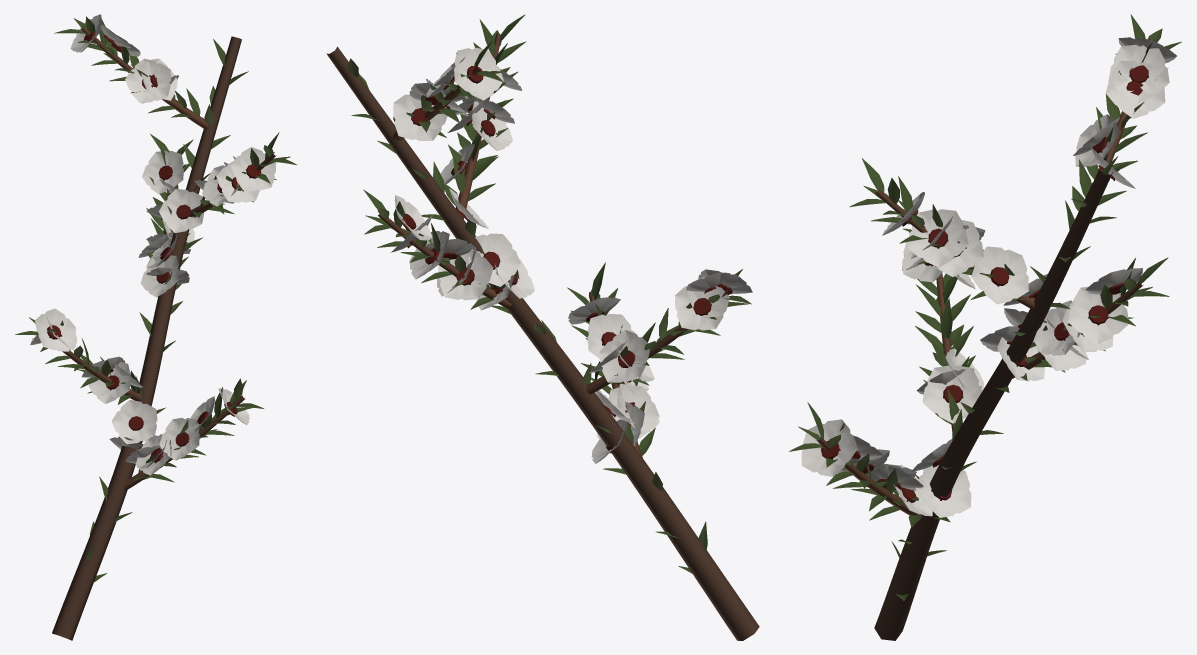
Rendered from manuka-hero.glb.
3 views of the same model, side by side, from view 1: azimuth 30°, elevation 25°; view 2: azimuth 150°, elevation 25°; view 3: azimuth 270°, elevation 25° (orthographic). The views are drawn at different scales.
Visible parts, largest first — view 1: flowers, stem, leaves; view 2: flowers, stem, leaves; view 3: flowers, stem, leaves.
Boxes of the visible parts, x1,y1,x2,y2 form: flowers: [30, 14, 276, 475]; stem: [52, 26, 276, 640]; leaves: [15, 16, 296, 582]; flowers: [390, 47, 752, 463]; stem: [326, 34, 759, 640]; leaves: [347, 14, 751, 573]; flowers: [801, 37, 1176, 517]; stem: [816, 38, 1154, 640]; leaves: [789, 14, 1181, 600].
Size of the model in its own units: 0.0422 by 0.0744 by 0.0381.
